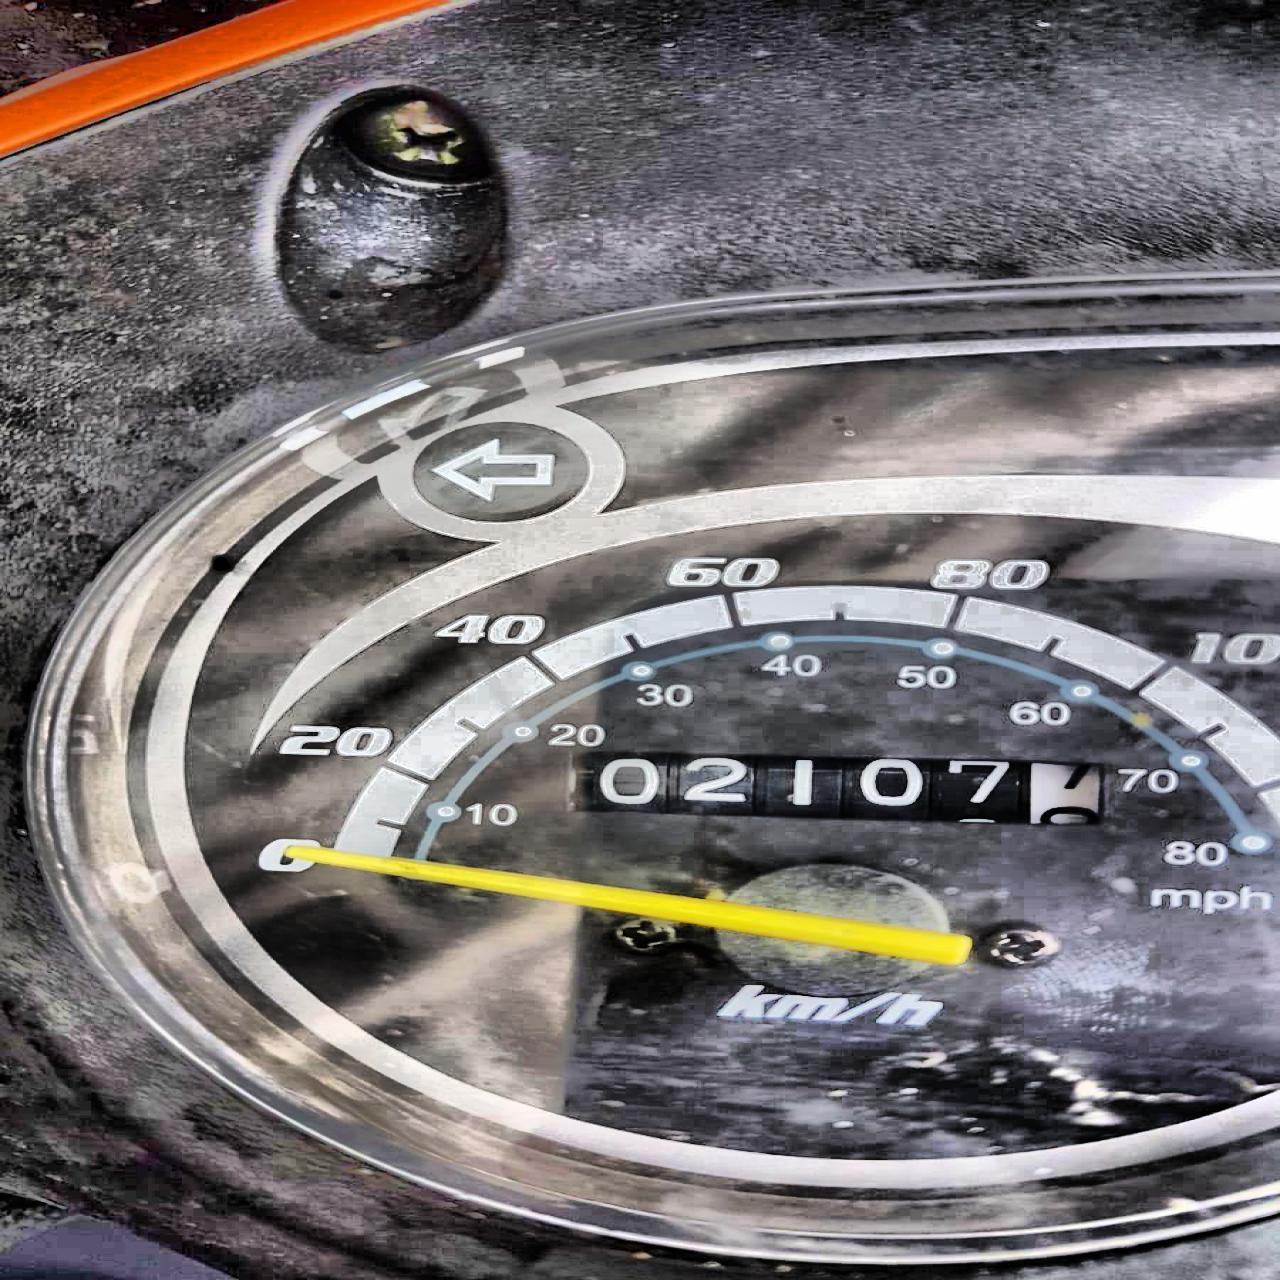0: (852, 754, 926, 816), (593, 754, 662, 812)
1: (782, 756, 822, 815)
2: (681, 754, 750, 810)
7: (942, 753, 1014, 809), (1044, 750, 1101, 797)
odometer: (565, 745, 1114, 832)
